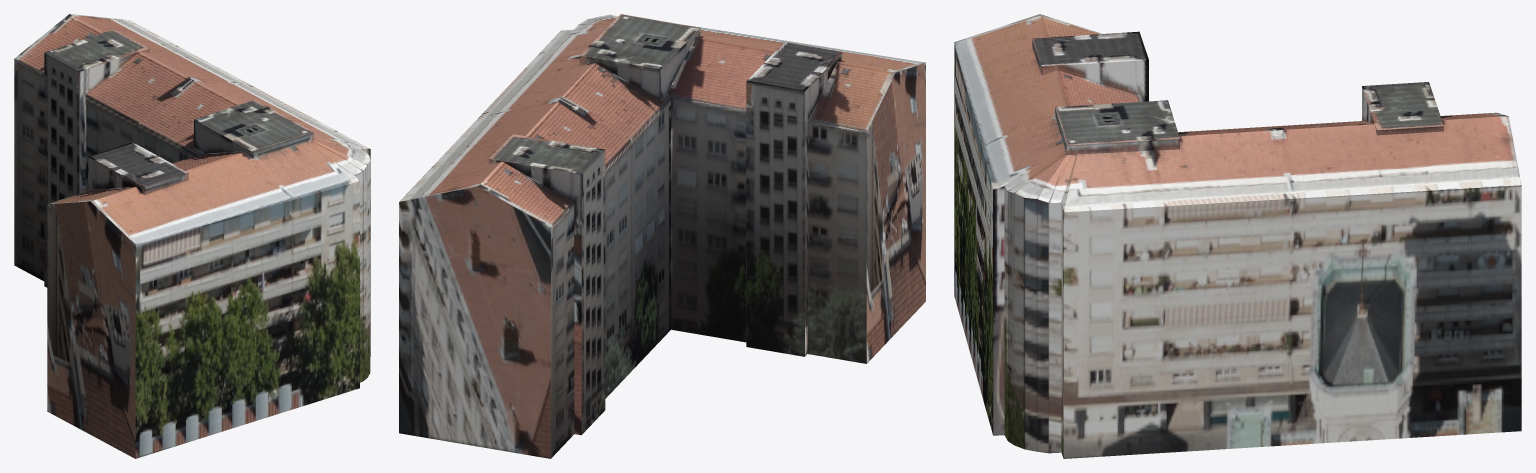
3 views of the same model, side by side, from view 1: azimuth 30°, elevation 25°; view 2: azimuth 150°, elevation 25°; view 3: azimuth 270°, elevation 25° (orthographic). The views are drawn at different scales.
Visible parts, largest first — view 1: Z_UP; view 2: Z_UP; view 3: Z_UP.
Part boxes in pixels (left/top/right/bottom): Z_UP: left=14, top=14, right=370, bottom=458; Z_UP: left=399, top=14, right=925, bottom=458; Z_UP: left=954, top=14, right=1521, bottom=458.
Size of the model in its own units: 34.51 by 26.25 by 47.82.
Materials: 2 (1 with a texture image).
